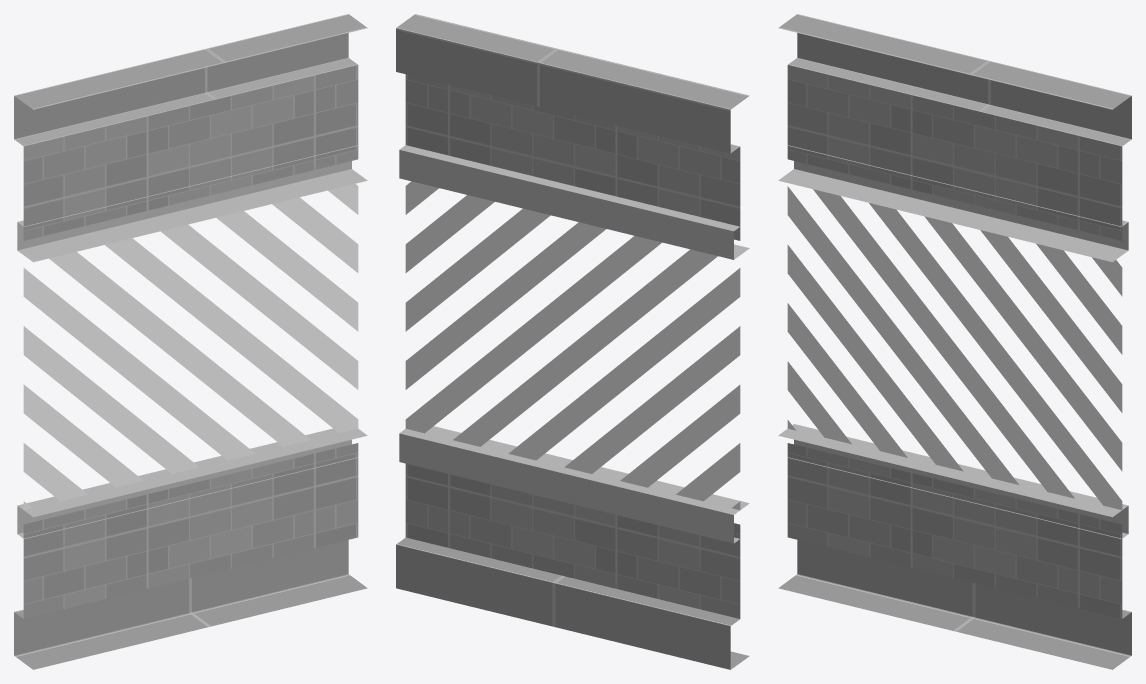
The model's file is proto_wall_windows_center_01.fbx.
3 views of the same model, side by side, from view 1: azimuth 30°, elevation 25°; view 2: azimuth 150°, elevation 25°; view 3: azimuth 330°, elevation 25° (orthographic).
Parts seen in each view (by area): view 1: proto_wall_windows_center_01; view 2: proto_wall_windows_center_01; view 3: proto_wall_windows_center_01.
Boxes of the visible parts, box(x1,y1,x2,y2) form: proto_wall_windows_center_01: box(14, 14, 367, 669); proto_wall_windows_center_01: box(396, 14, 749, 669); proto_wall_windows_center_01: box(778, 14, 1131, 669).
Size of the model in its own units: 200 by 320 by 20.
